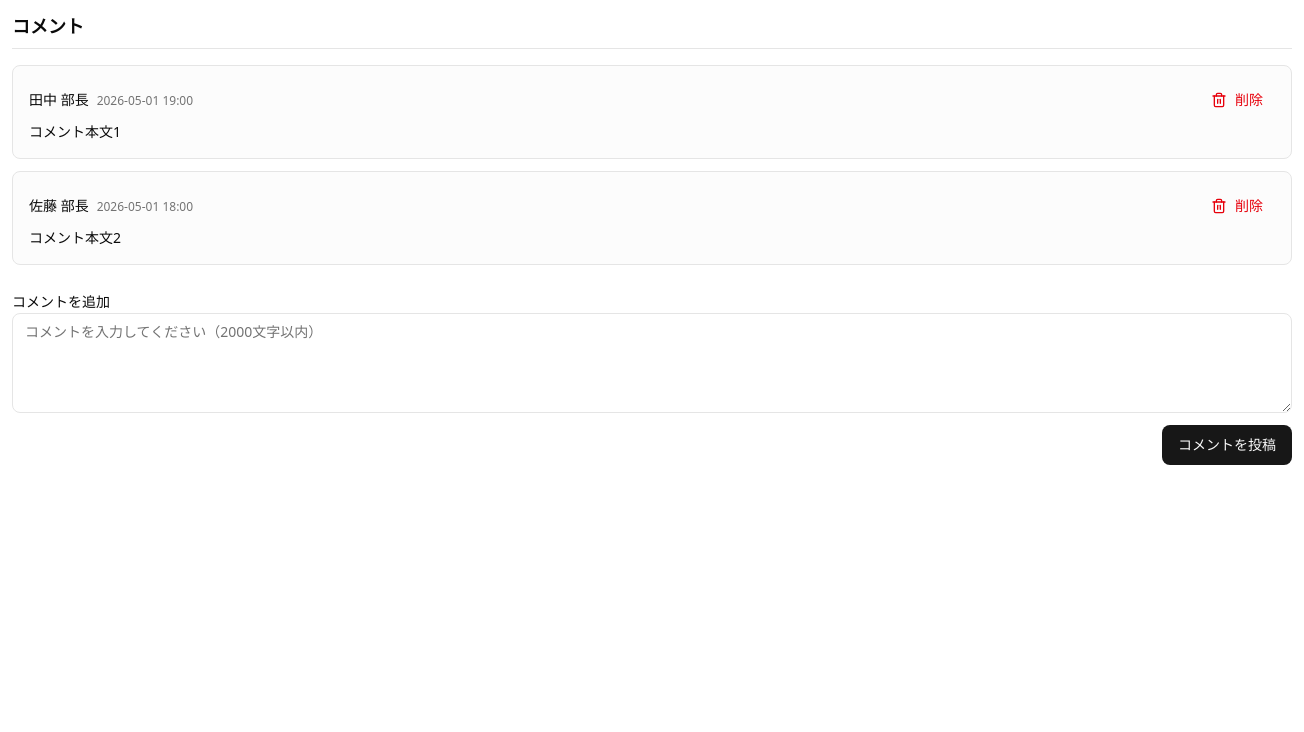
Test: CommentSection › コメント削除 › 削除失敗時にエラーメッセージが表示される
Click the button with aria-label "田中 部長のコメントを削除" at (1237, 100), box [1199,82,1275,118]
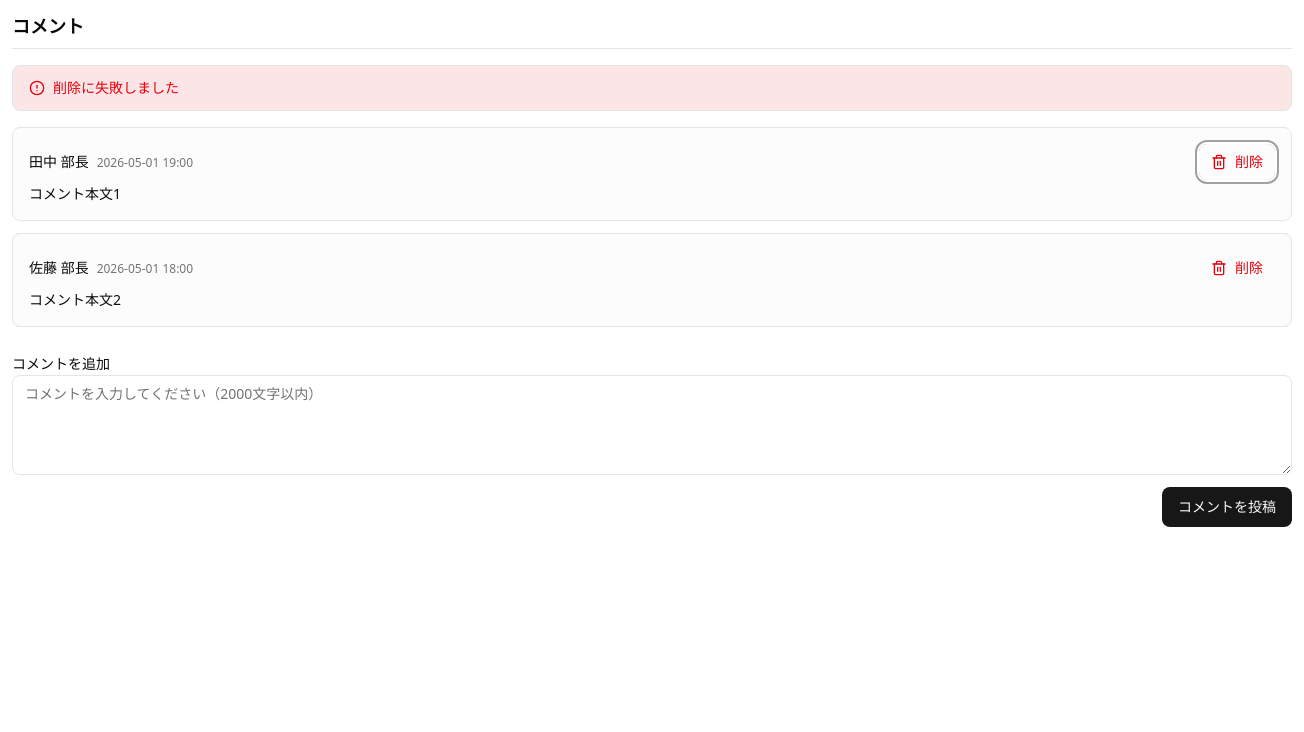
Expected: the message reads "削除に失敗しました", [53,78,179,97]
